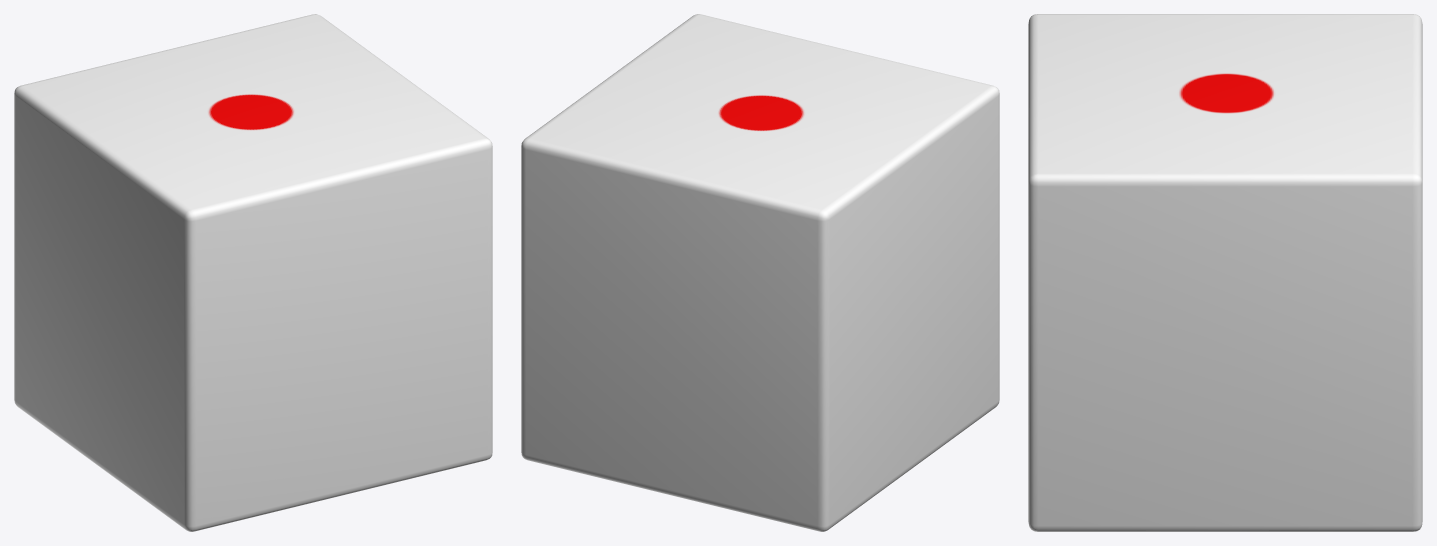
3 views of the same model, side by side, from view 1: azimuth 30°, elevation 25°; view 2: azimuth 150°, elevation 25°; view 3: azimuth 270°, elevation 25° (orthographic). The views are drawn at different scales.
Visible parts, largest first — view 1: Box; view 2: Box; view 3: Box.
Part boxes in pixels (x1,y1,x2,y2): Box: (14, 14, 492, 531); Box: (521, 14, 999, 531); Box: (1028, 14, 1422, 531).
Size of the model in its own units: 39.37 by 39.37 by 39.37.
1 material, 1 textured.
